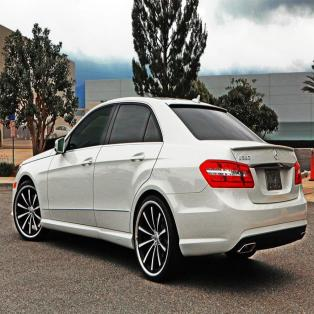Auto: (10, 93, 311, 282)
